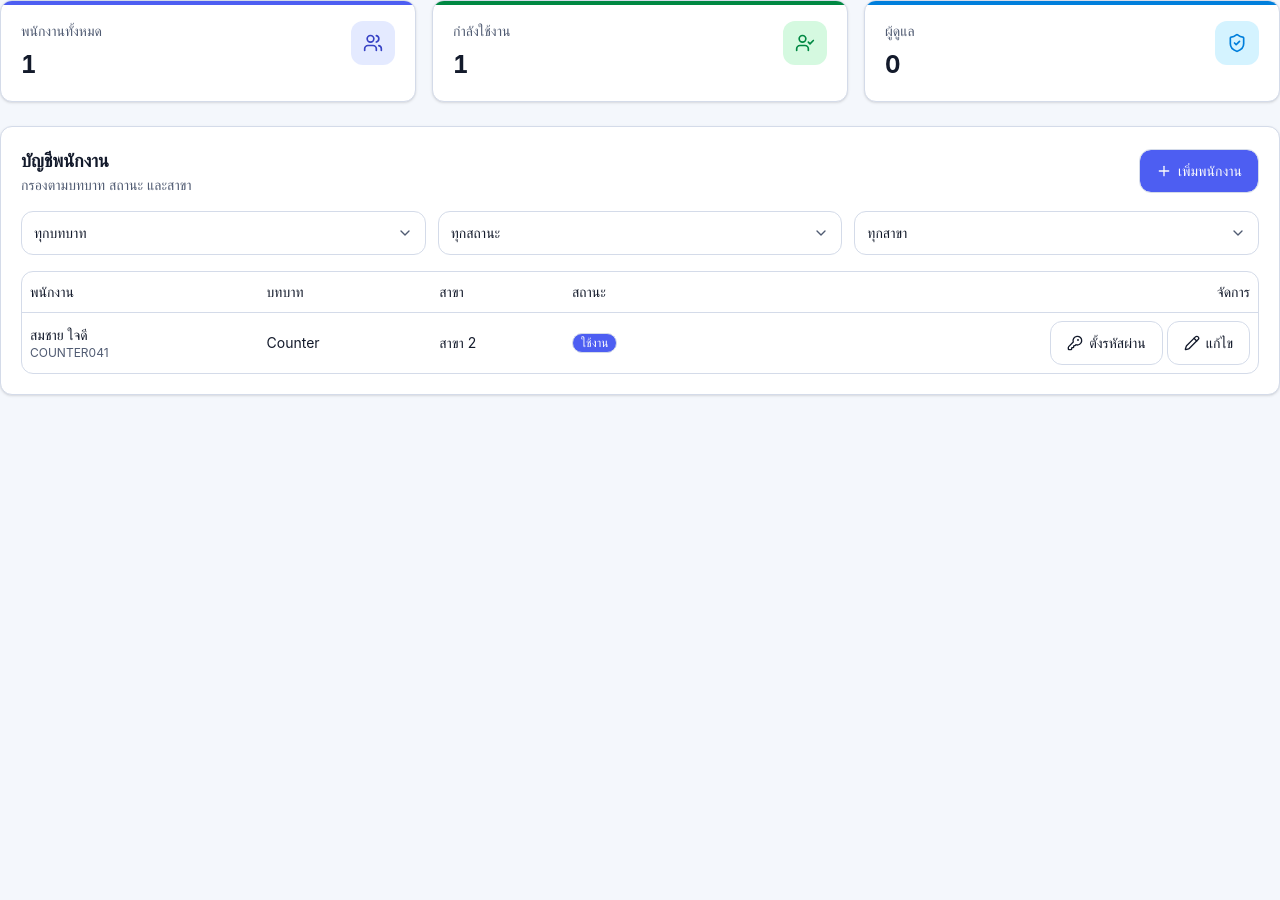
ส่ง reset password ไป endpoint เป้าหมายและประกาศ error แบบ aria-live
This screenshot has width=1280, height=900.
Click the button with aria-label "ตั้งรหัสผ่านใหม่ให้ สมชาย ใจดี" at (1106, 342), box [1050, 320, 1163, 364]
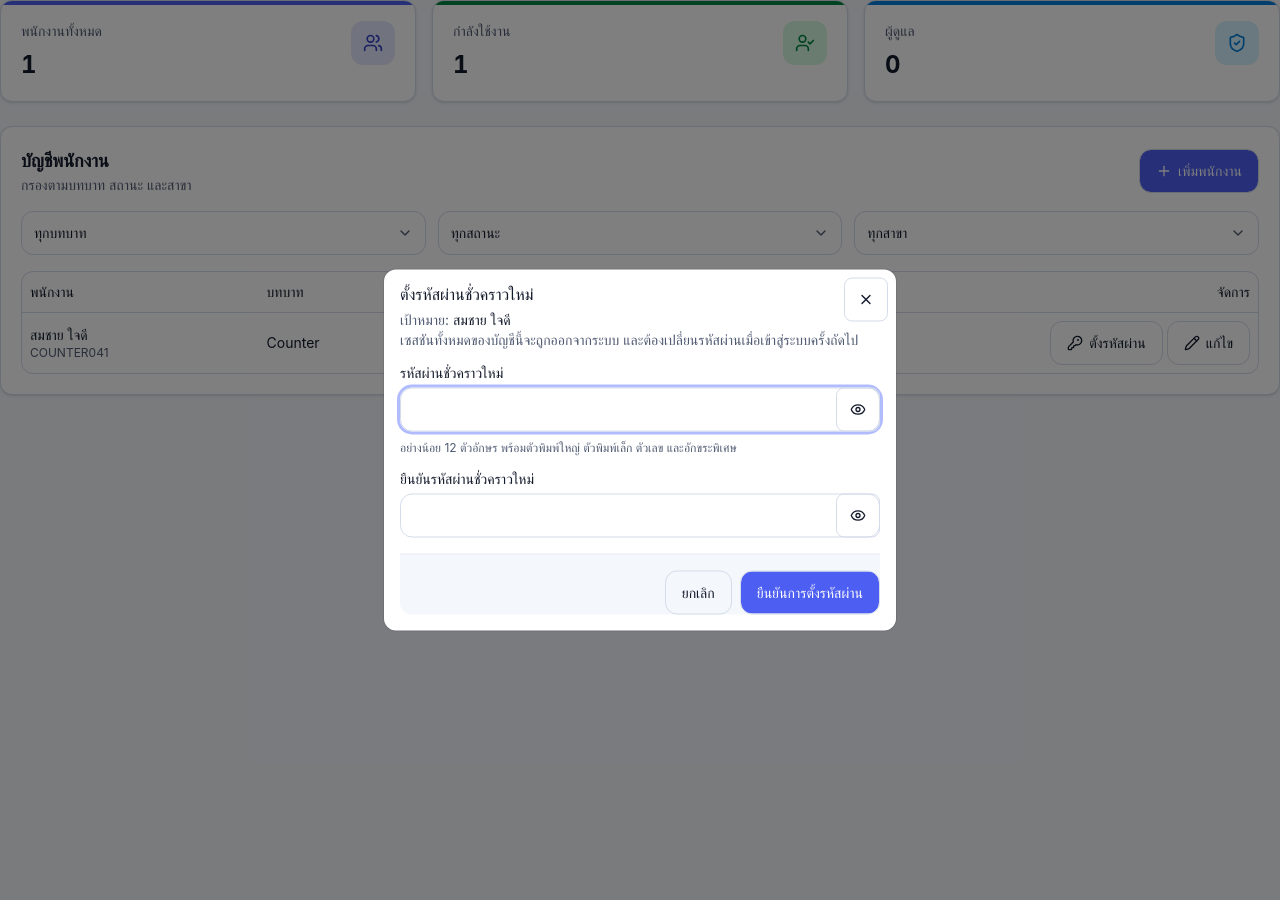
Type "StrongPass#2026" into the password field labelled "รหัสผ่านชั่วคราวใหม่" at (640, 410), box [400, 388, 880, 432]
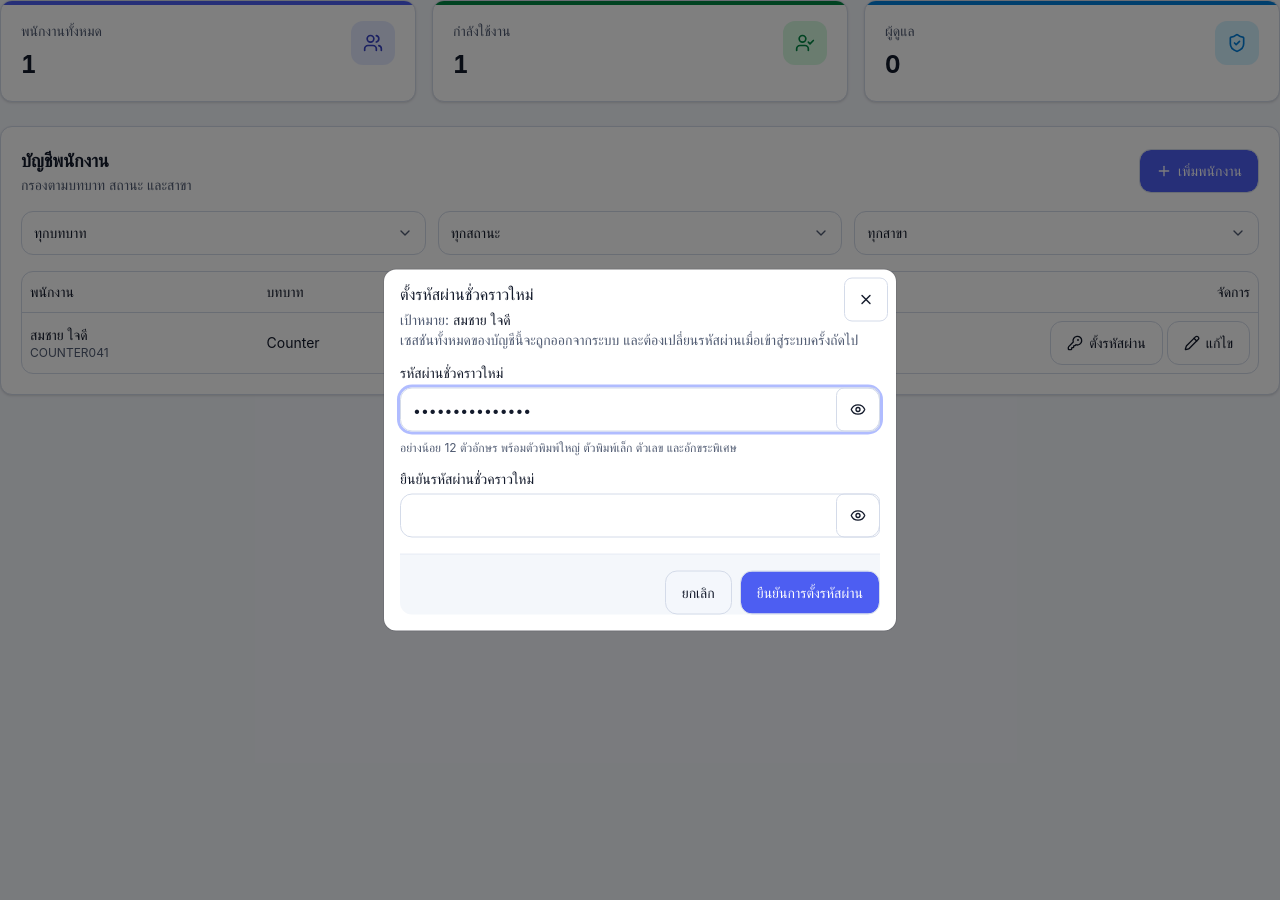
Type "StrongPass#2026" into the password field labelled "ยืนยันรหัสผ่านชั่วคราวใหม่" at (640, 516), box [400, 494, 880, 538]
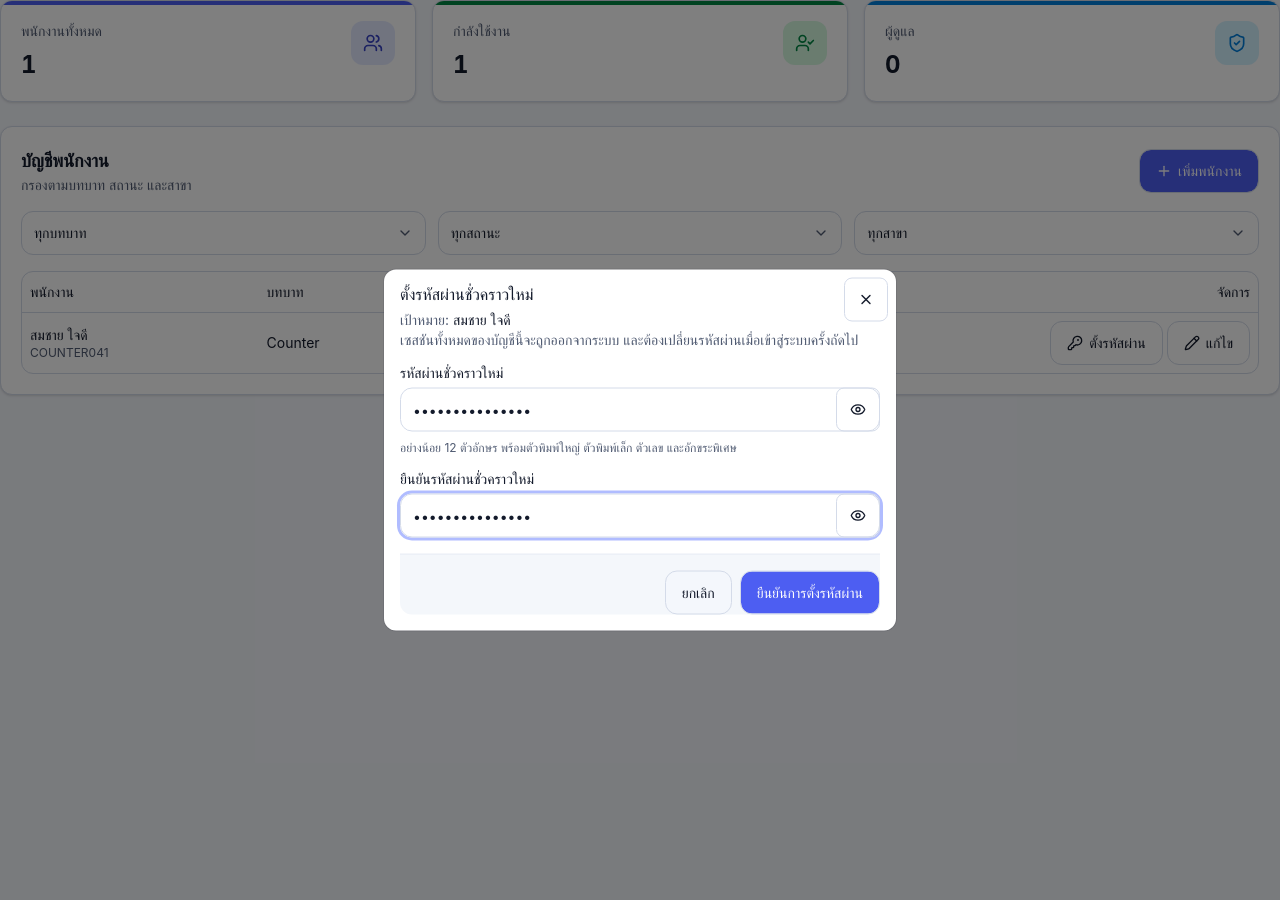
Click the button "ยืนยันการตั้งรหัสผ่าน" at (810, 592), box [740, 570, 880, 614]
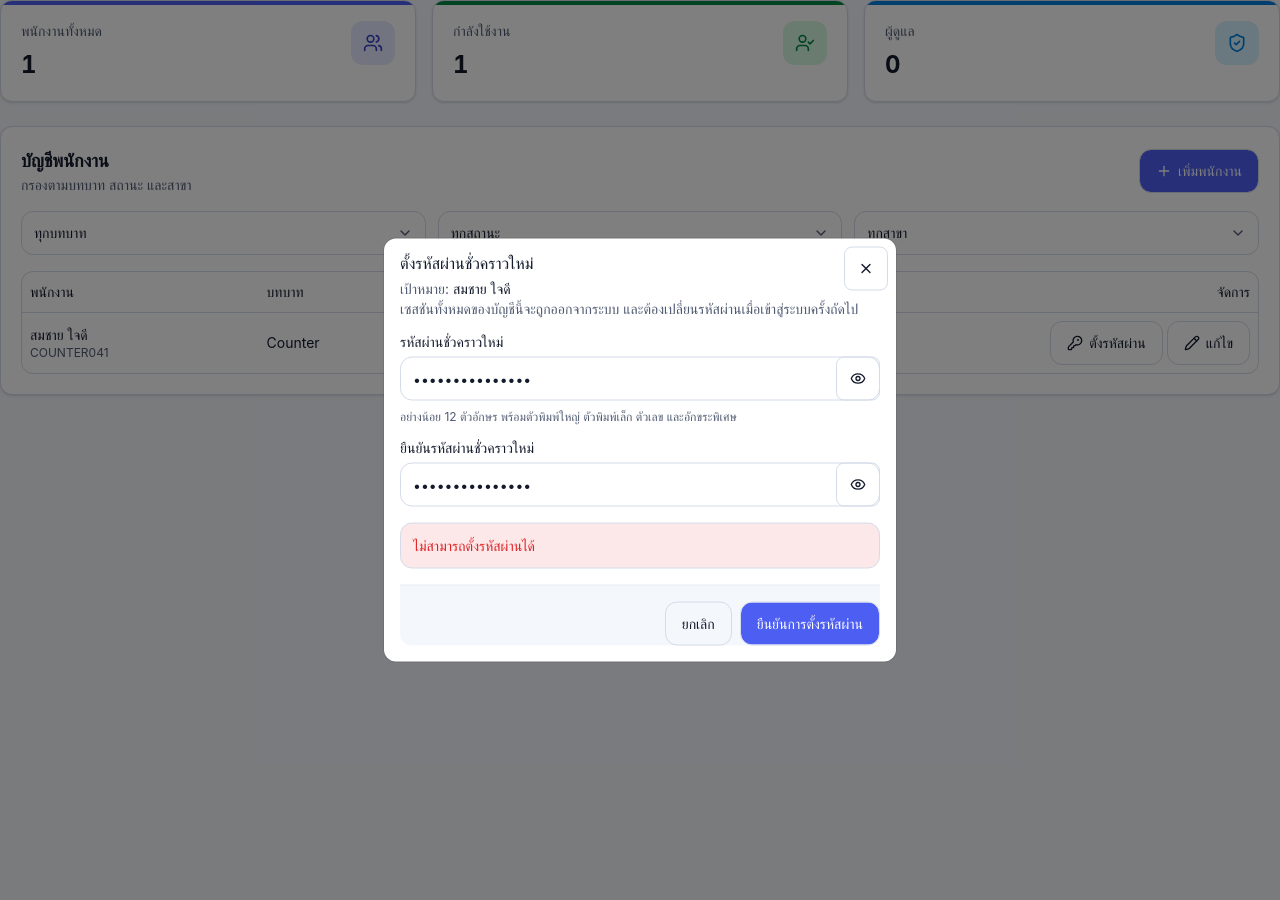
Check: the message reads "ไม่สามารถตั้งรหัสผ่านได้", box [413, 536, 535, 554]
